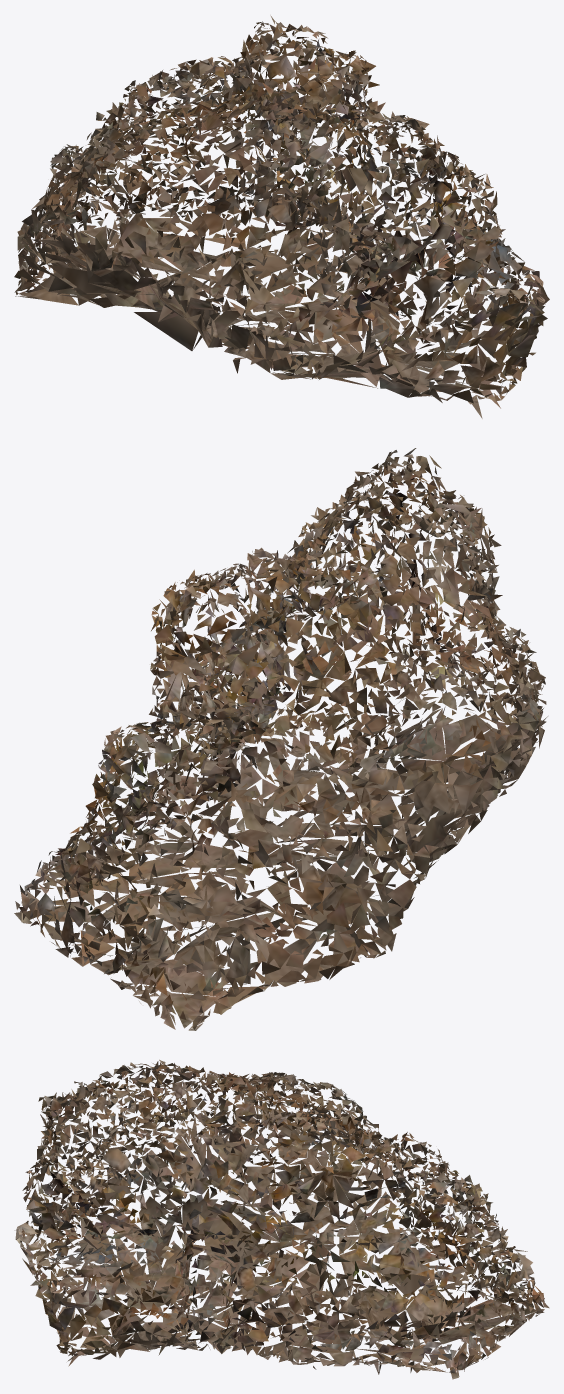
File: boulder_01.glb
3 views of the same model, one above another, from view 1: azimuth 30°, elevation 25°; view 2: azimuth 150°, elevation 25°; view 3: azimuth 270°, elevation 25° (orthographic). The views are drawn at different scales.
Parts seen in each view (by area): view 1: boulder_01; view 2: boulder_01; view 3: boulder_01.
Boxes of the visible parts, bbox=[...] form: boulder_01: bbox=[14, 15, 549, 418]; boulder_01: bbox=[14, 448, 547, 1030]; boulder_01: bbox=[14, 1059, 549, 1379].
Bounding box in the file's own units: 1.28 × 1 × 1.85.
1 material, 1 textured.
